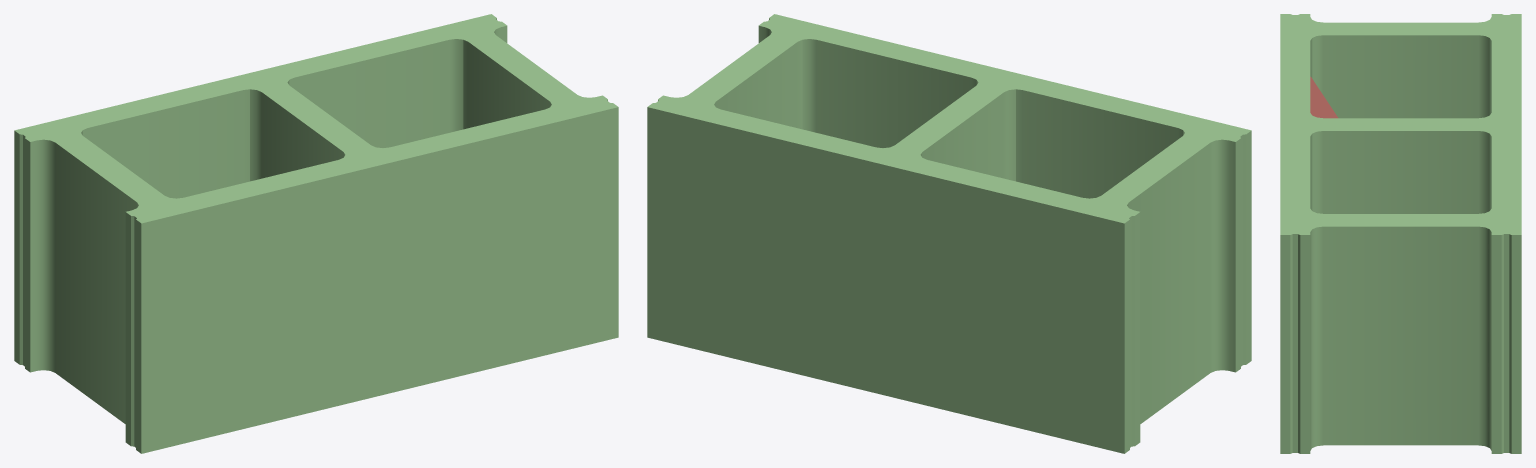
Rendered from block-frags.glb.
3 renders of one model, left to right at view 1: azimuth 30°, elevation 25°; view 2: azimuth 150°, elevation 25°; view 3: azimuth 270°, elevation 25°, orthographic. The views are drawn at different scales.
Visible parts, largest first — view 1: frag_1, frag_8, frag_6, frag_12, frag_13, frag_0, frag_2, frag_7, frag_10, frag_5; view 2: frag_1, frag_6, frag_0, frag_12, frag_11, frag_7, frag_13, frag_8, frag_5, frag_3; view 3: frag_8, frag_7, frag_13, frag_6, frag_12, frag_1, frag_0, frag_9, frag_11.
Boxes of the visible parts, x1,y1,x2,y2 form: frag_1: [14, 138, 354, 453]; frag_8: [319, 100, 618, 378]; frag_6: [14, 80, 278, 247]; frag_12: [206, 47, 357, 266]; frag_13: [273, 42, 472, 300]; frag_0: [334, 14, 516, 147]; frag_2: [151, 234, 409, 401]; frag_7: [419, 51, 607, 195]; frag_10: [311, 293, 447, 388]; frag_5: [199, 210, 273, 267]; frag_1: [716, 138, 1251, 453]; frag_6: [777, 114, 1251, 324]; frag_0: [647, 49, 942, 282]; frag_12: [782, 78, 1186, 225]; frag_11: [647, 195, 791, 353]; frag_7: [647, 21, 938, 231]; frag_13: [764, 49, 1086, 233]; frag_8: [758, 14, 927, 147]; frag_5: [1071, 139, 1140, 195]; frag_3: [725, 295, 784, 341]; frag_8: [1280, 201, 1500, 453]; frag_7: [1280, 168, 1521, 375]; frag_13: [1280, 113, 1521, 213]; frag_6: [1280, 14, 1521, 213]; frag_12: [1280, 44, 1521, 192]; frag_1: [1310, 65, 1491, 118]; frag_0: [1280, 168, 1521, 268]; frag_9: [1410, 369, 1509, 453]; frag_11: [1500, 354, 1521, 453].
Bounding box in the file's own units: 0.4403 × 0.2032 × 0.2032.
